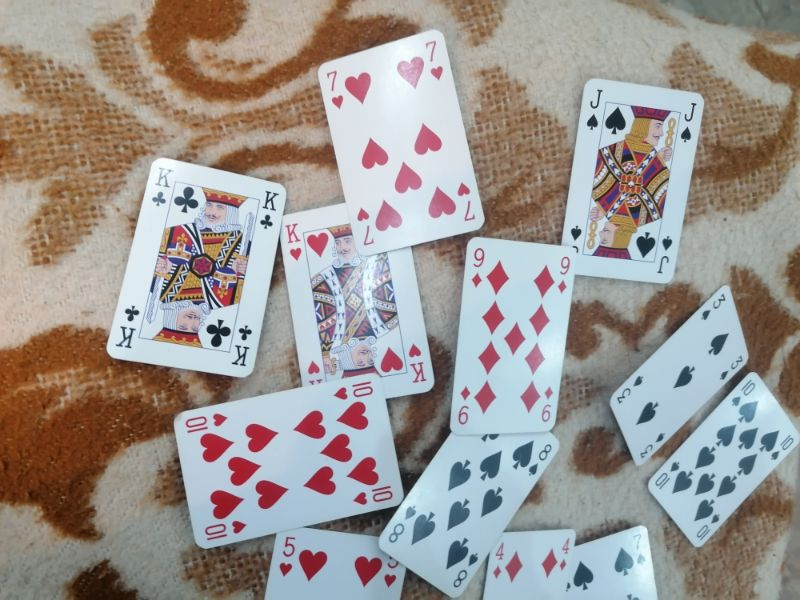3s: (615, 372, 647, 406), (697, 290, 728, 322), (638, 430, 669, 461), (717, 353, 745, 384)
4d: (491, 540, 509, 581), (557, 534, 571, 572)
5h: (277, 532, 299, 577)
7h: (422, 37, 448, 82), (323, 67, 348, 110), (455, 180, 478, 223), (354, 206, 378, 247)
7s: (630, 532, 649, 568)
8s: (448, 551, 482, 589), (388, 503, 419, 544), (527, 440, 554, 477)
9d: (470, 243, 488, 289), (537, 384, 557, 425), (555, 251, 572, 296), (456, 383, 473, 426)
Js: (584, 85, 609, 130), (677, 99, 700, 143), (654, 234, 678, 275)
Kc: (114, 302, 143, 351), (151, 163, 178, 211), (230, 323, 256, 369), (258, 187, 281, 230)
Kh: (404, 340, 428, 384), (284, 218, 304, 264)
Th: (349, 481, 396, 509), (183, 409, 230, 436), (331, 377, 377, 404), (201, 517, 250, 542)
Ts: (653, 459, 682, 492), (730, 377, 759, 409), (695, 511, 724, 542), (769, 431, 797, 463)
